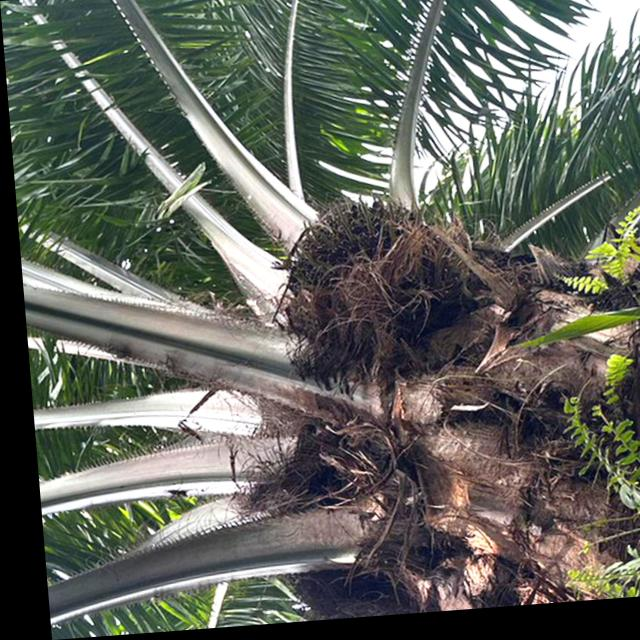unripe: (266, 195, 470, 388)
